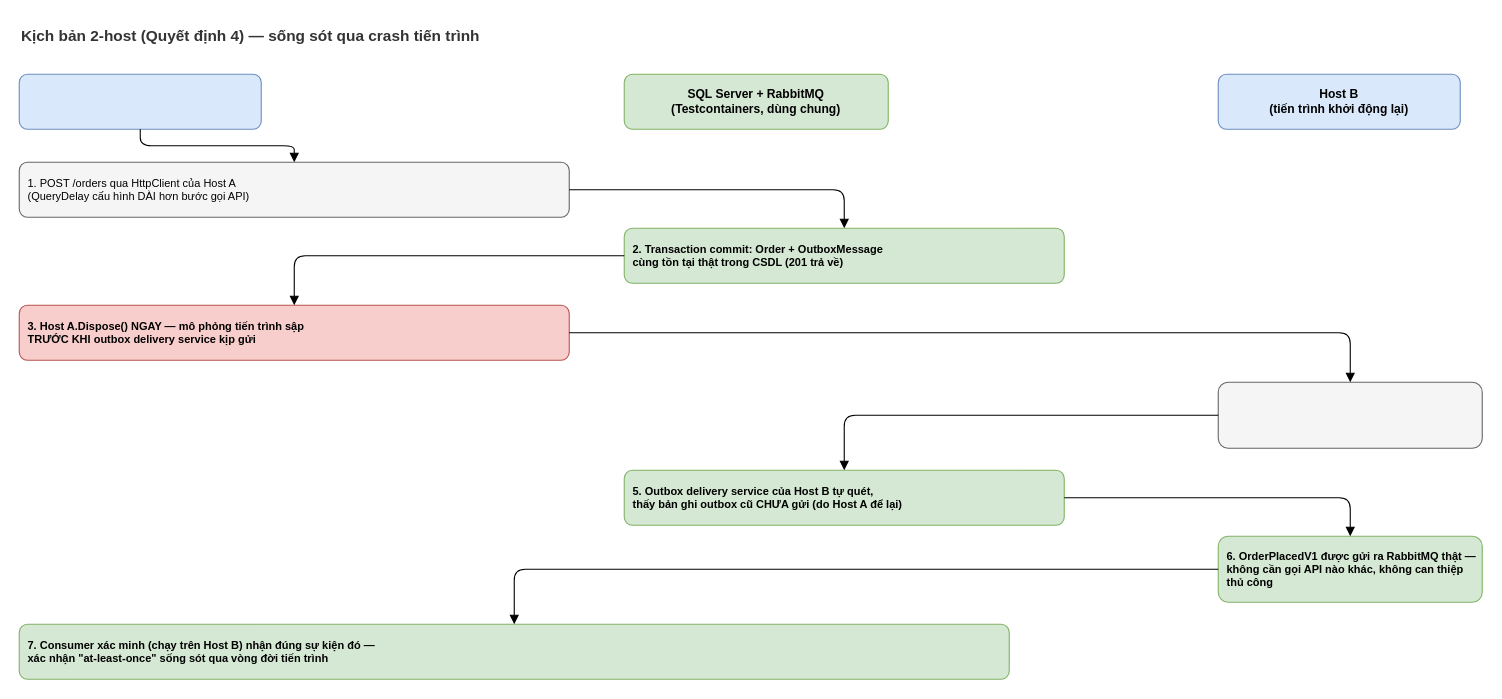
Image size: 1502x699. Some labels were removed from this diagram. Each missing label, with the centre of its shape:
"4. Host B khởi tạo mới, trỏ CÙNG connection string + cùng RabbitMQ container" goes at (1349,414).
"Host A (tiến trình trước khi sập)" goes at (139,101).
